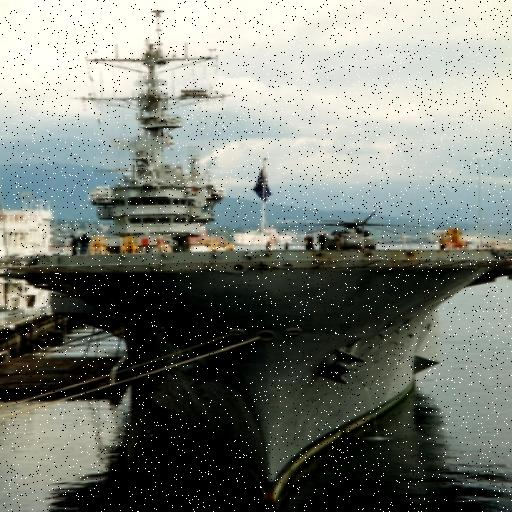Portanaves: (1, 1, 512, 506)
